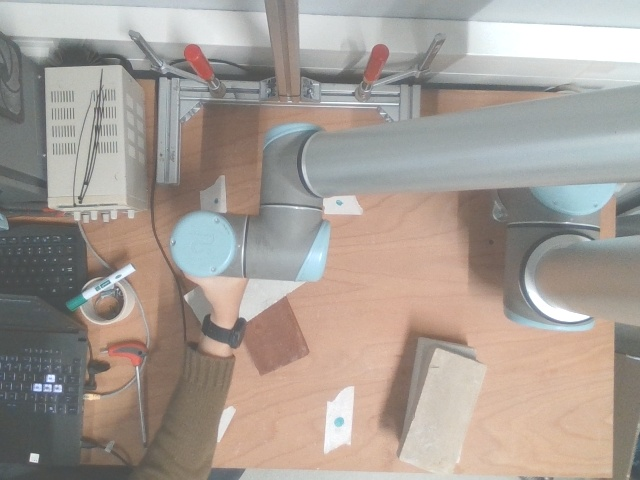brick: (401, 350, 484, 475)
